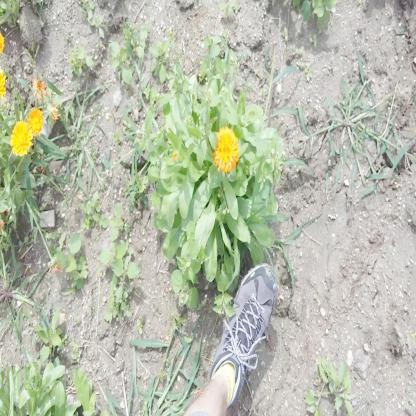marigold: (213, 126, 240, 170), (11, 118, 30, 154)
